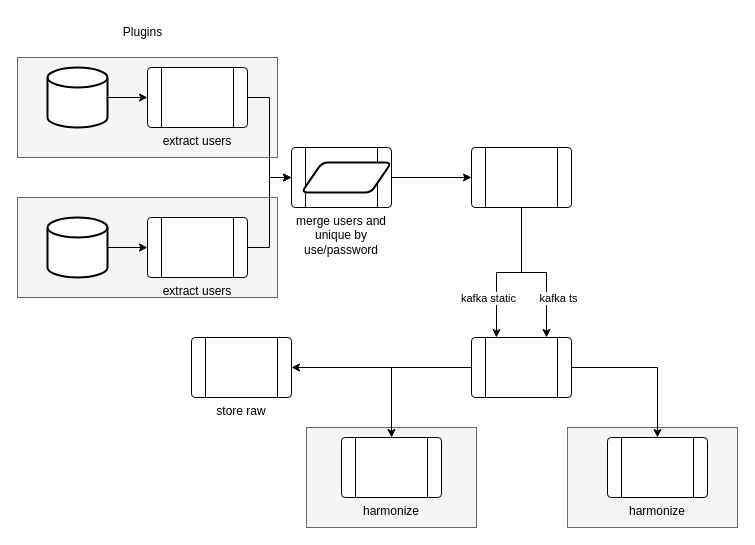
The diagram is 755 pixels wide and 545 high, and some of its shapes have lost their labels. Each missing label, with the centre of its shape:
datadis mapreduce: [521,177]
Kafka: [521,367]
users@db: [346,177]
